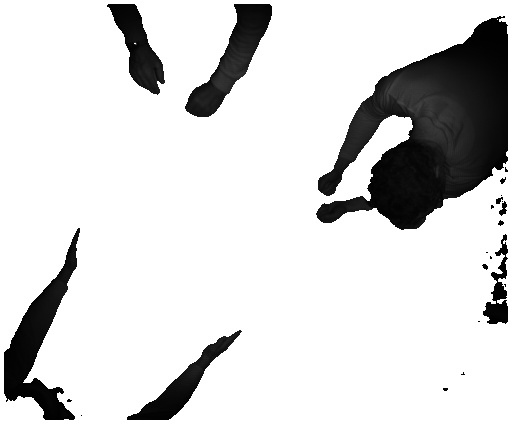fist: (184, 83, 229, 119), (313, 168, 343, 198), (312, 202, 344, 223)
hand: (128, 53, 167, 95)
spine: (204, 328, 247, 367), (63, 224, 79, 277)
